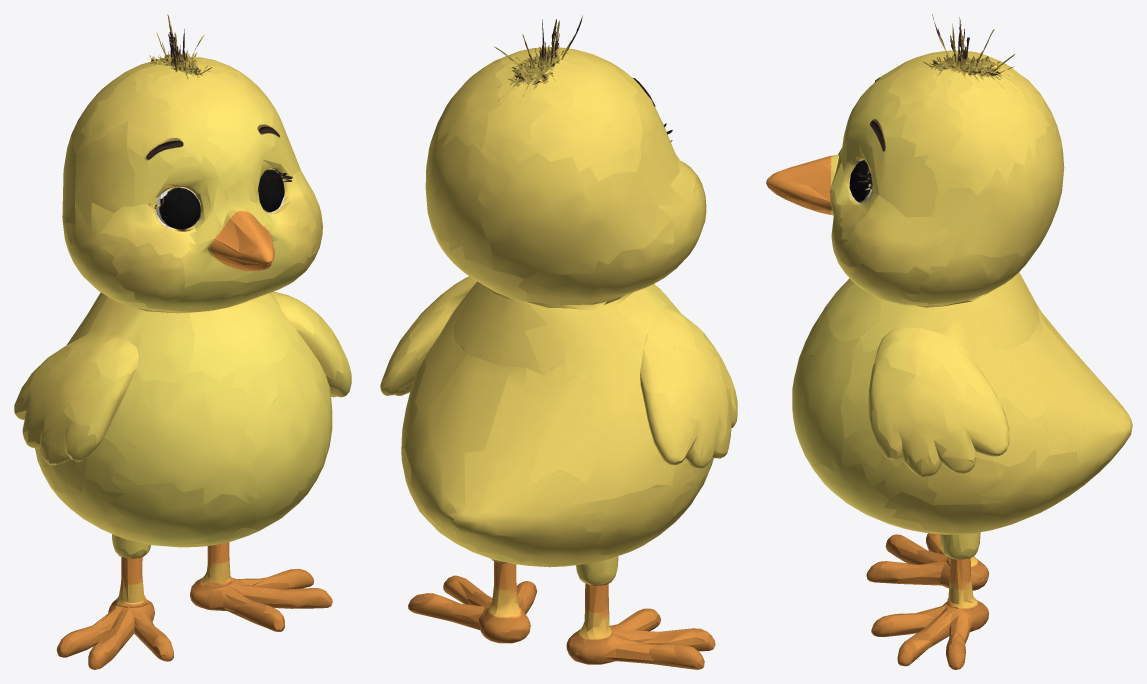
File: peeko.7a6a0458.glb
The picture shows the model from 3 angles, left to right: view 1: azimuth 30°, elevation 25°; view 2: azimuth 150°, elevation 25°; view 3: azimuth 270°, elevation 25°; orthographic projection. The views are drawn at different scales.
Parts seen in each view (by area): view 1: body, head, wingR, tuft, footL, footR, wingL, beakLower; view 2: body, head, wingR, tuft, footR, footL, wingL; view 3: head, body, wingL, tuft, footL, footR.
Part boxes in pixels (left/top/right/bottom): body: left=65, top=291, right=332, bottom=554; head: left=62, top=78, right=322, bottom=349; wingR: left=14, top=345, right=139, bottom=526; tuft: left=105, top=14, right=260, bottom=131; footL: left=190, top=542, right=332, bottom=631; footR: left=56, top=539, right=173, bottom=669; wingL: left=294, top=299, right=351, bottom=428; beakLower: left=184, top=239, right=297, bottom=280; body: left=401, top=276, right=701, bottom=574; head: left=425, top=72, right=706, bottom=330; wingR: left=604, top=319, right=737, bottom=549; tuft: left=465, top=15, right=637, bottom=124; footR: left=566, top=565, right=715, bottom=669; footL: left=408, top=558, right=537, bottom=643; wingL: left=380, top=276, right=469, bottom=449; head: left=766, top=69, right=1064, bottom=319; body: left=792, top=276, right=1132, bottom=552; wingL: left=844, top=345, right=1041, bottom=525; tuft: left=872, top=14, right=1032, bottom=126; footL: left=871, top=534, right=988, bottom=669; footR: left=866, top=533, right=989, bottom=590.
Bounding box in the file's own units: 0.9542 × 1.81 × 1.02.
Materials: 1 (1 with a texture image).
